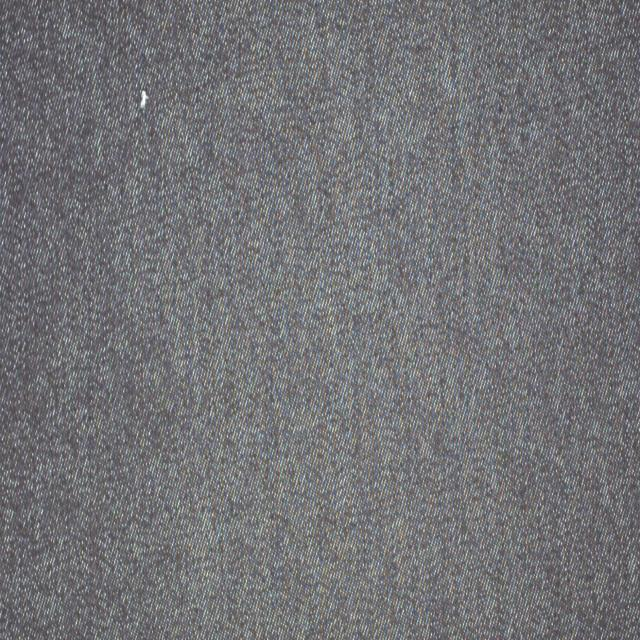Knot: (139, 90, 149, 108)
